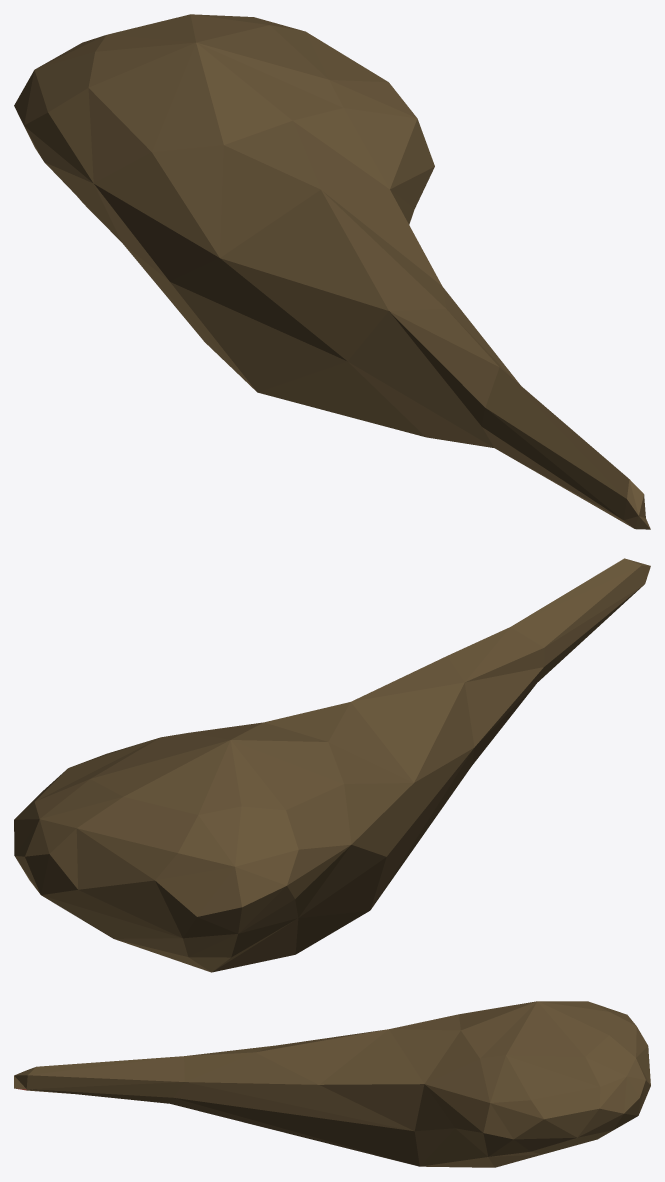
Rendered from ITFOMUTTON.OBJ.
3 views of the same model, one above another, from view 1: azimuth 30°, elevation 25°; view 2: azimuth 150°, elevation 25°; view 3: azimuth 270°, elevation 25° (orthographic). The views are drawn at different scales.
Visible parts, largest first — view 1: ITFOMUTTON; view 2: ITFOMUTTON; view 3: ITFOMUTTON.
Boxes of the visible parts, <box> form: ITFOMUTTON: <box>14,14,650,529</box>; ITFOMUTTON: <box>14,558,650,972</box>; ITFOMUTTON: <box>14,1001,650,1167</box>.
Bounding box in the file's own units: 0.1583 × 0.1308 × 0.4685.
